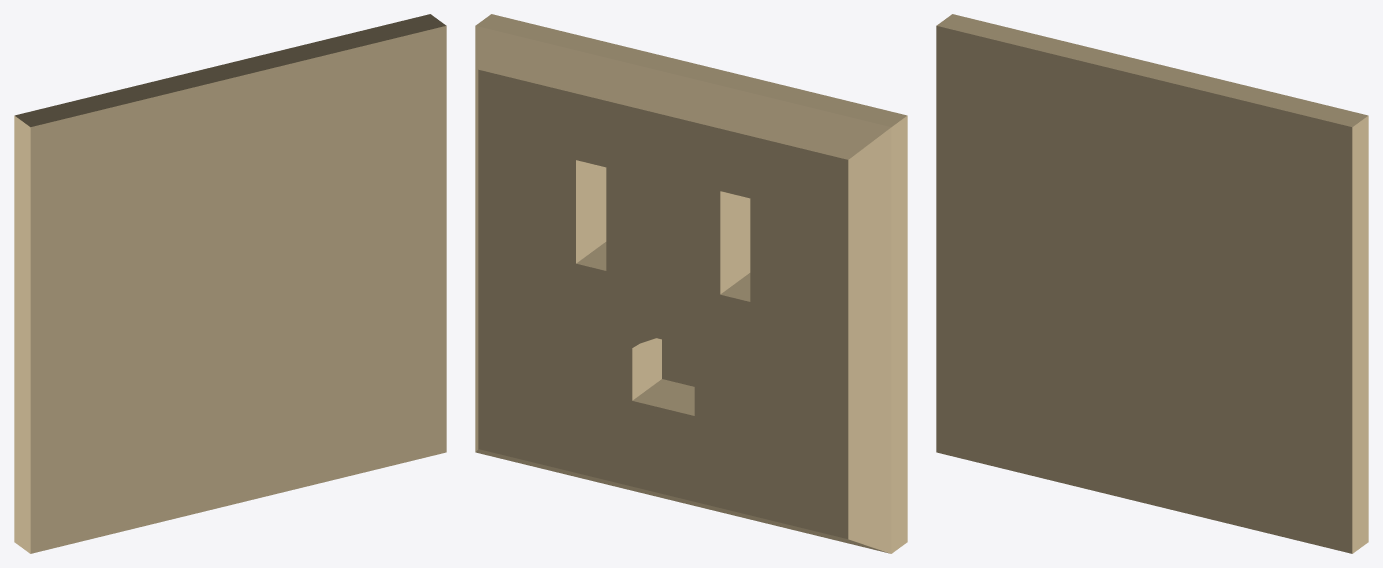
File: Electric Socket 1.fbx
The picture shows the model from 3 angles, left to right: view 1: azimuth 30°, elevation 25°; view 2: azimuth 150°, elevation 25°; view 3: azimuth 330°, elevation 25°; orthographic projection.
Visible parts, largest first — view 1: Node 0; view 2: Node 0; view 3: Node 0.
Part boxes in pixels (bbox=[...]): Node 0: bbox=[14, 14, 446, 553]; Node 0: bbox=[475, 14, 907, 553]; Node 0: bbox=[936, 14, 1368, 553].
Bounding box in the file's own units: 0.0138 × 0.09 × 0.0919.
